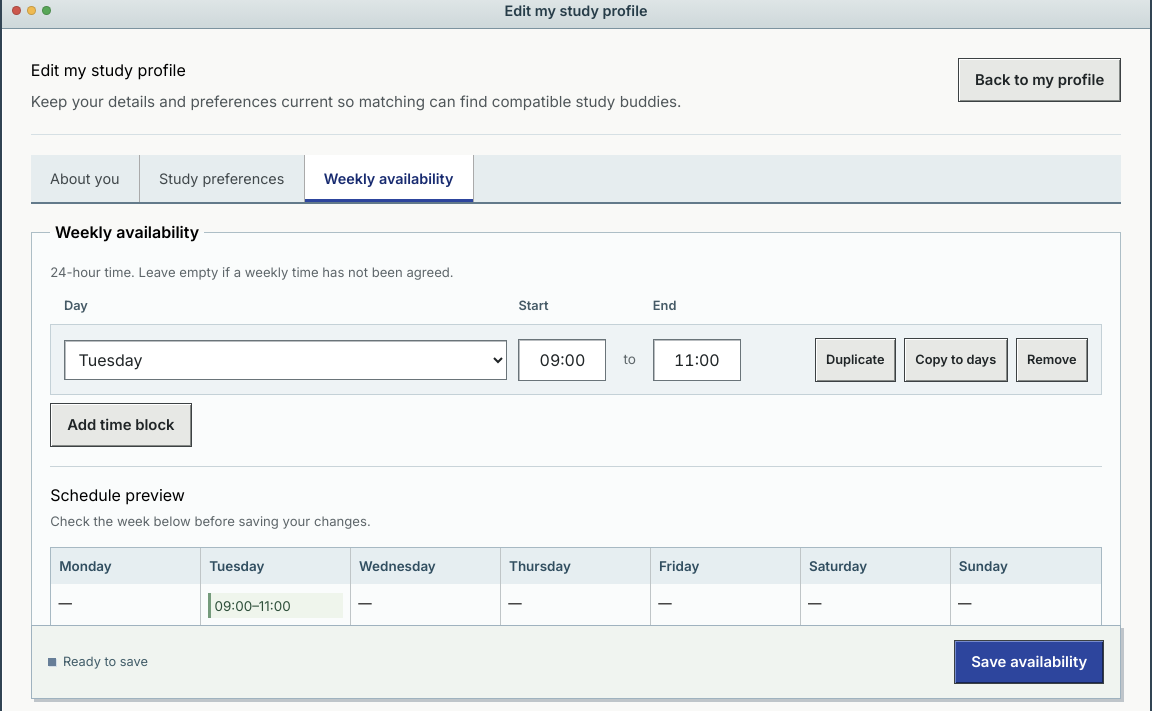
Test: edit study profile › blocks availability save for the visible 25:00 draft until it is corrected
The width and height of the screenshot is (1152, 711).
Step 1. Replace the text in the 1st field named "Start 1" with "25:00" → (562, 360), box [518,339,606,381]
(page scrolled)
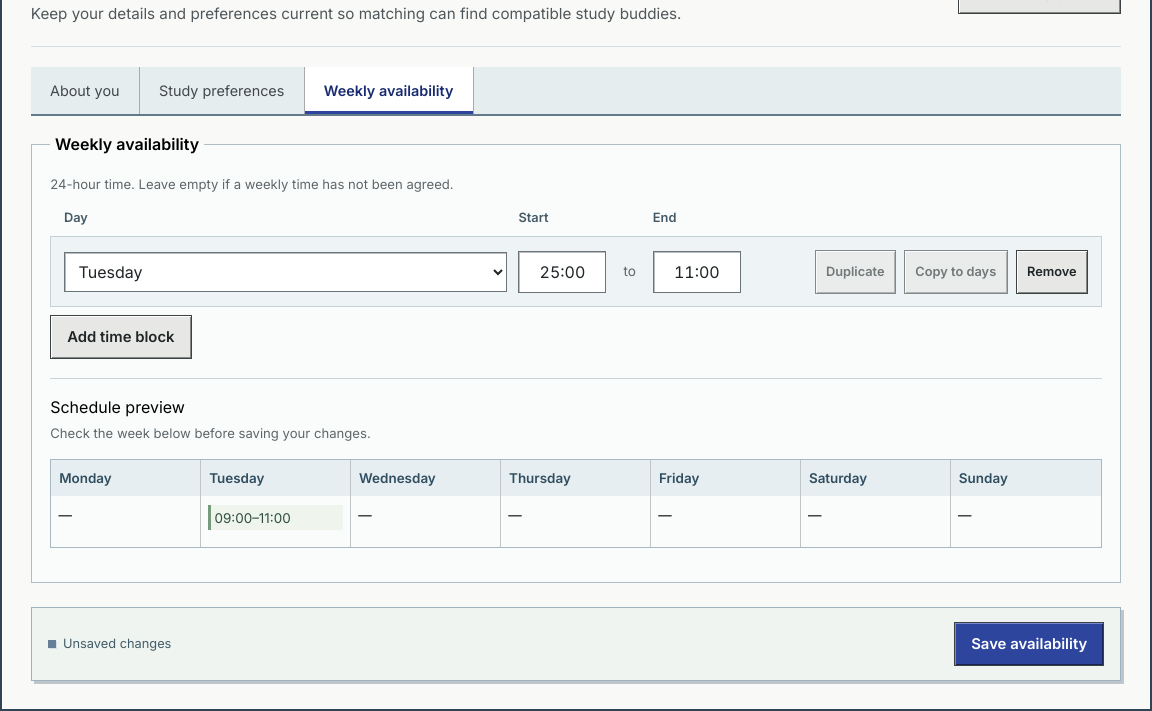
Check: the text "Unsaved changes" is shown, box [48,634,171,654]
// A form submit also covers pressing Enter without a blur event.
Step 2. Submit the form
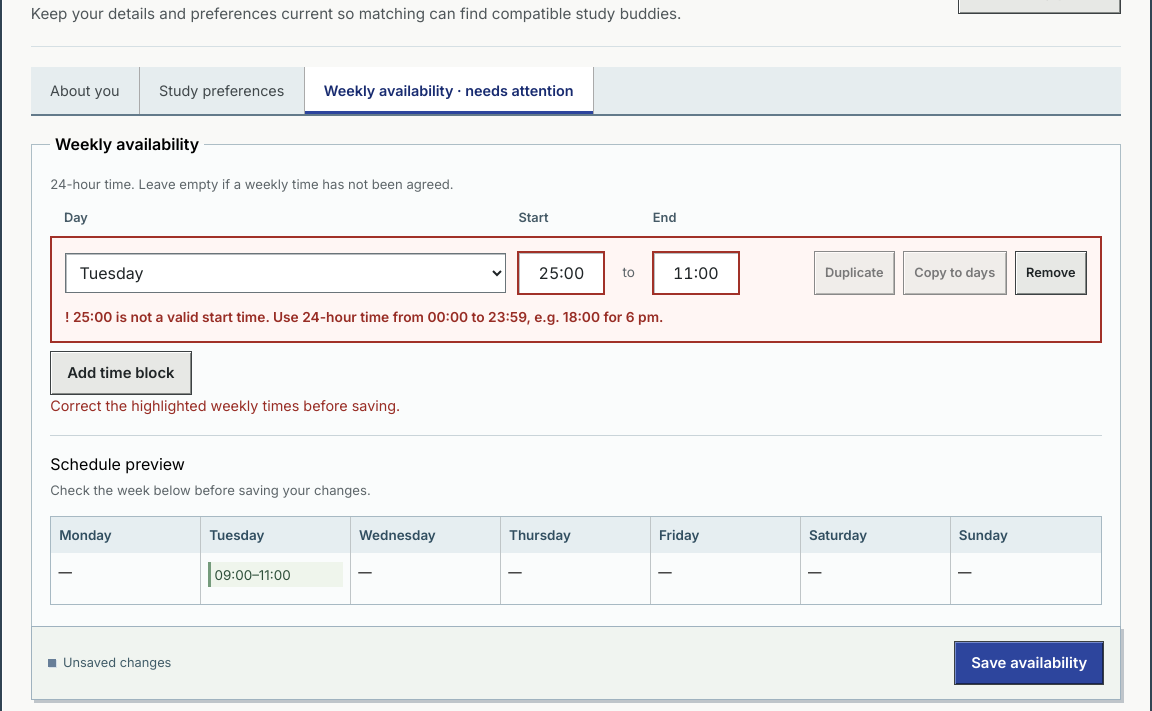
Check: the text "Correct the highlighted weekly times before saving." is shown, box [50,397,400,414]
Step 3. Replace the text in the 1st field with "09:30" → (562, 273), box [518,251,606,295]
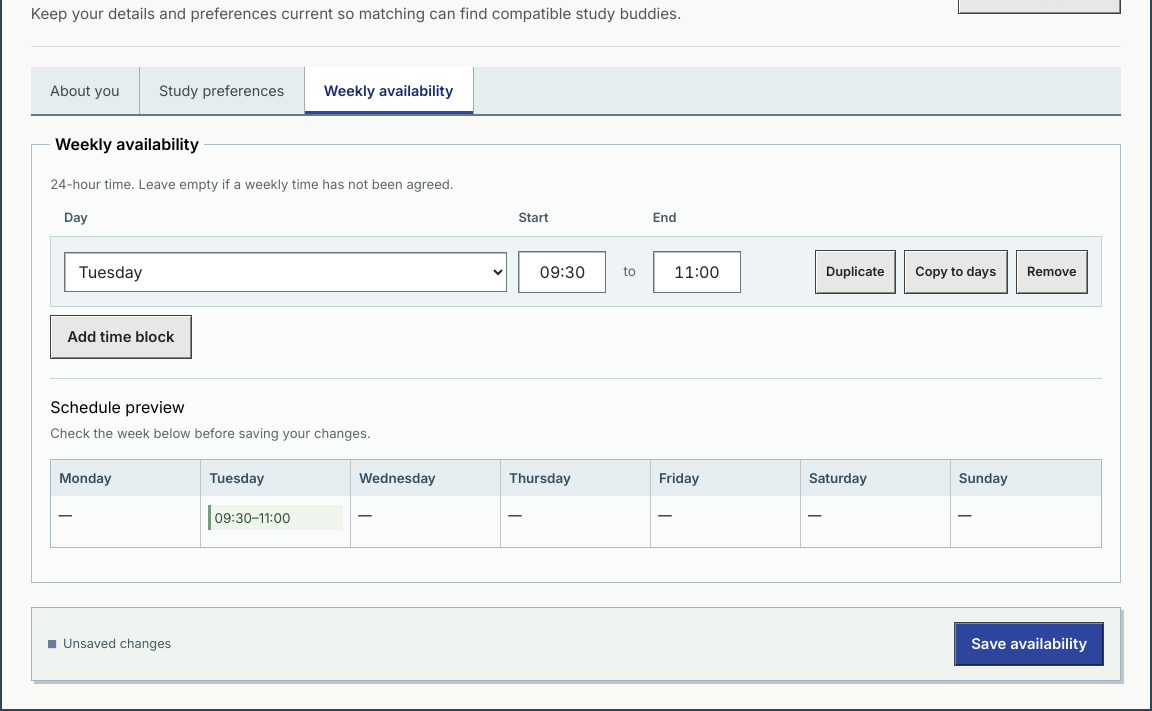
Step 4. Click the button "Save availability" → (1029, 644), box [954,622,1104,666]
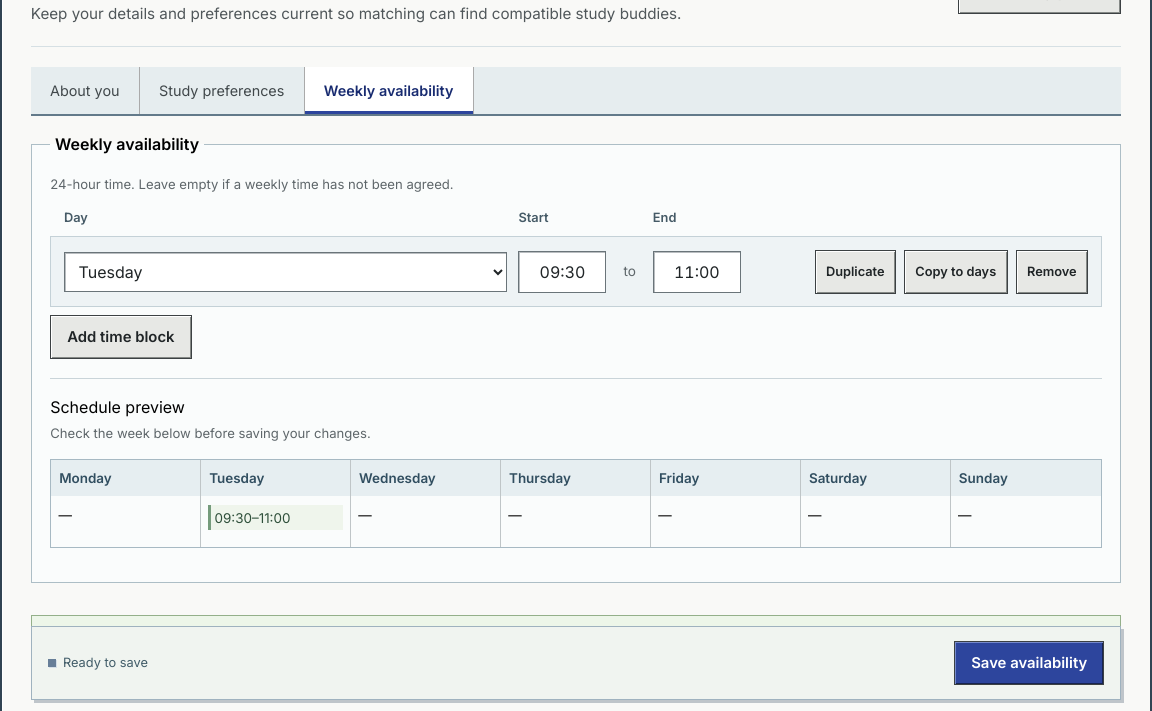
Check: the text "Weekly availability saved." is shown, box [66,637,259,657]
Check: the text "Unsaved changes" is gone
